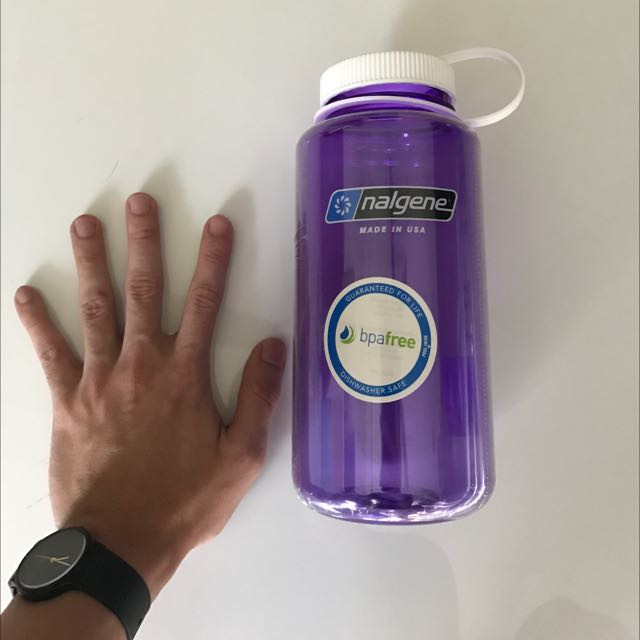bottle: (292, 46, 530, 526)
